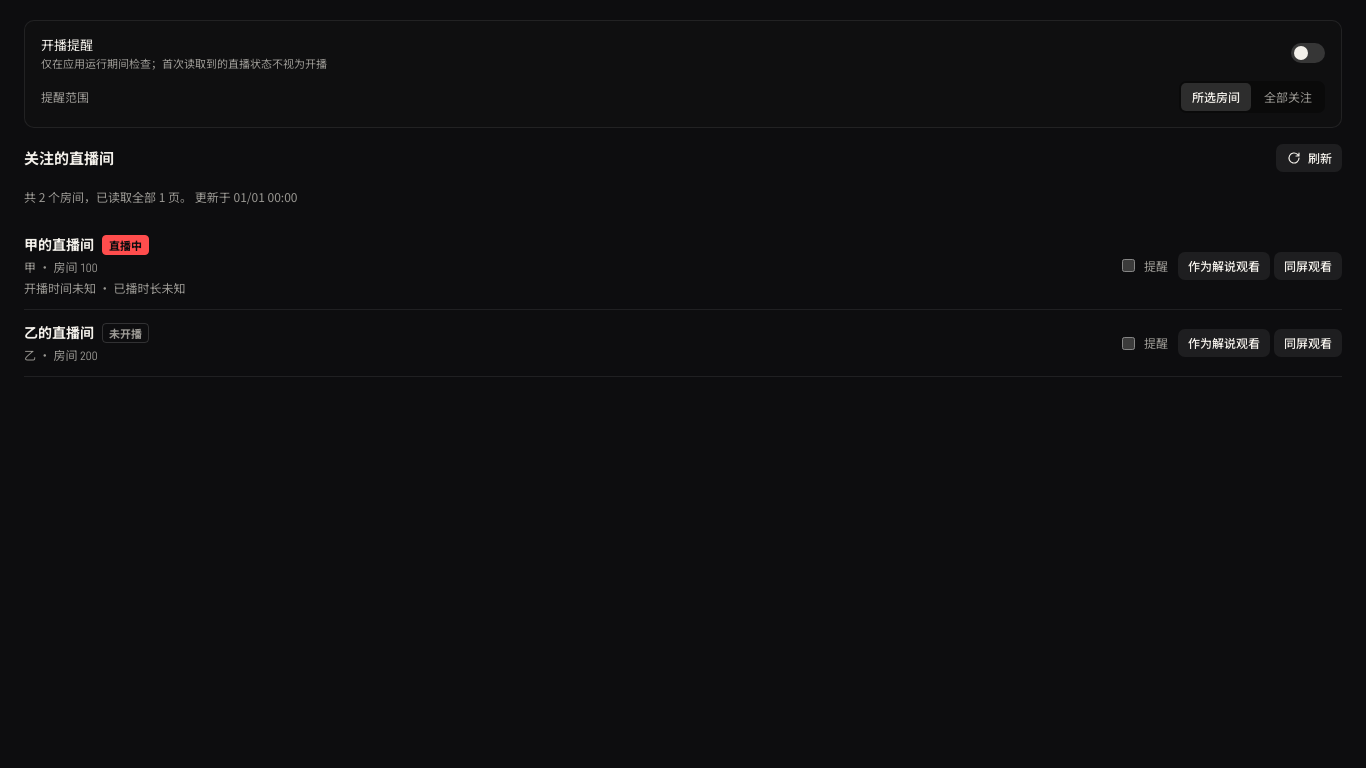
Test: live notifications › shows live notices and monitor errors from the insights topic
This screenshot has width=1366, height=768.
Expected: the list item "甲的直播间 直播中 甲 · 房间 100 开播时间未知 · 已播时长未知 提醒 作为解说观看 同屏观看" is shown, [24,222,1342,310]
Click the radio button labelled "全部关注" at (1288, 96), box [1264,88,1312,105]
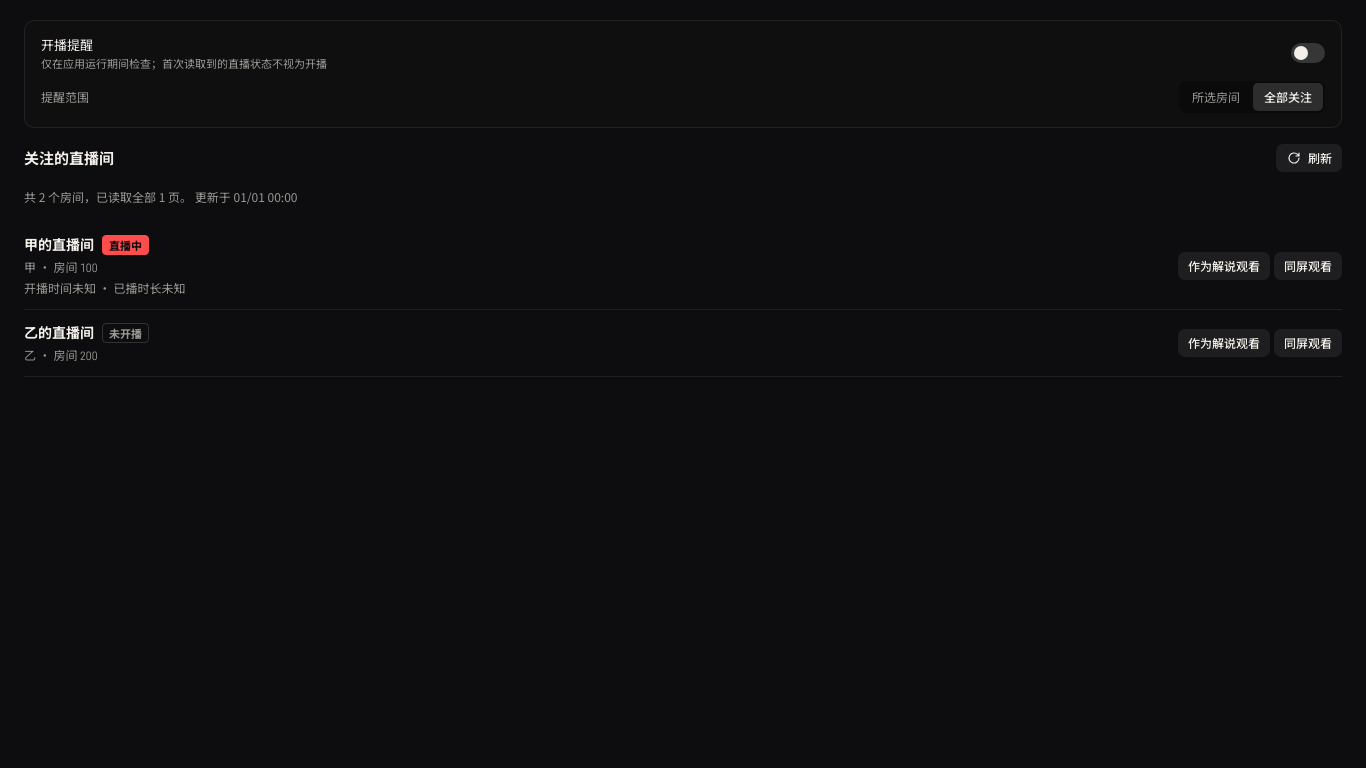
Click the switch labelled "开播提醒 仅在应用运行期间检查；首次读取到的直播状态不视为开播" at (67, 44), box [41,35,1325,71]
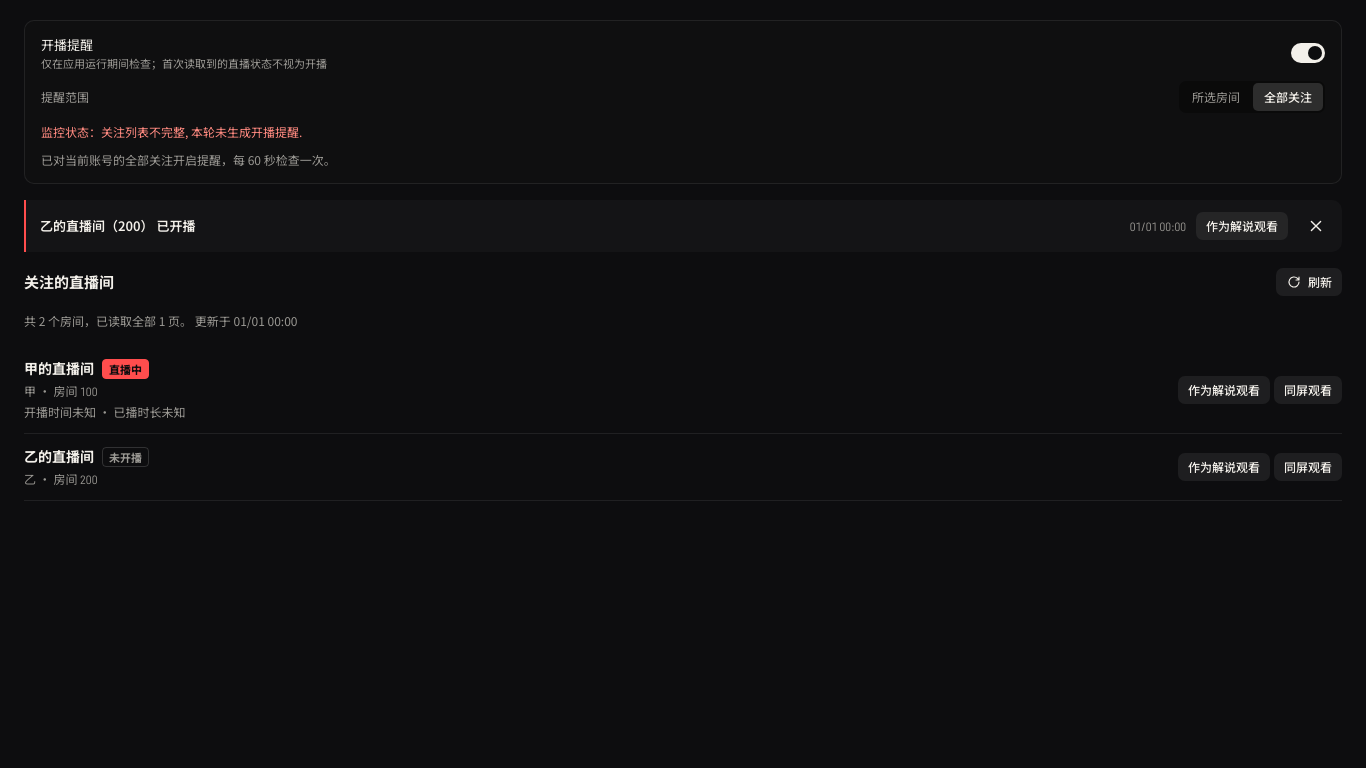
Now the text "已对当前账号的全部关注开启提醒，每 60 秒检查一次。" is shown, box [41,151,336,168]
Now the text "乙的直播间（200） 已开播" is shown once, box [40,216,196,235]
Now the text "监控状态：关注列表不完整, 本轮未生成开播提醒." is shown, box [41,123,302,140]
